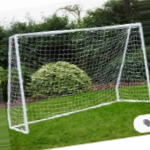goals: (1, 19, 150, 135)
